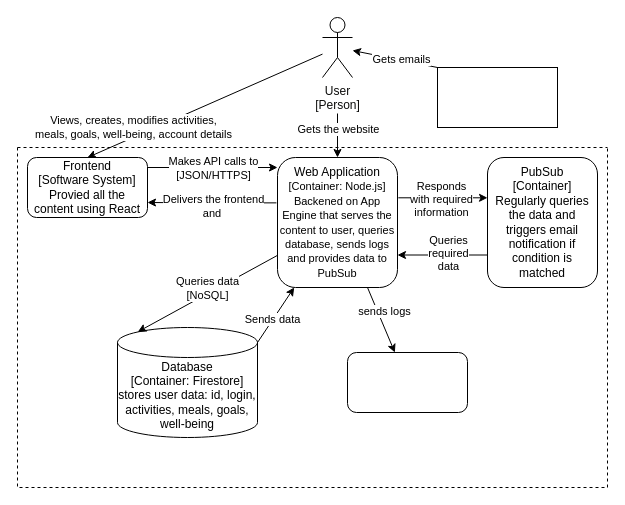
This 625x505 diagram has some shape labels left out. Here are the shapes that lost their labels. From the top down, the centre of each, then its label:
At (x=497, y=97): "Email system [Software System]".
At (x=407, y=382): "Logging [Container] Logs backend data".
